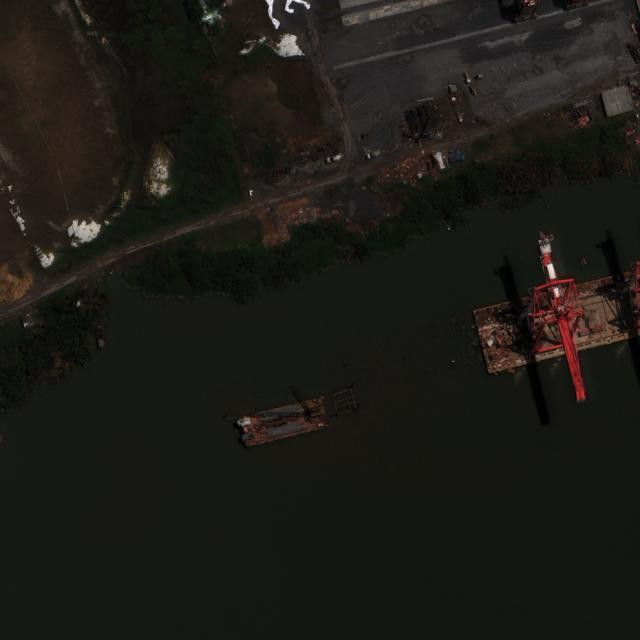Other Ship: (233, 395, 332, 450)
